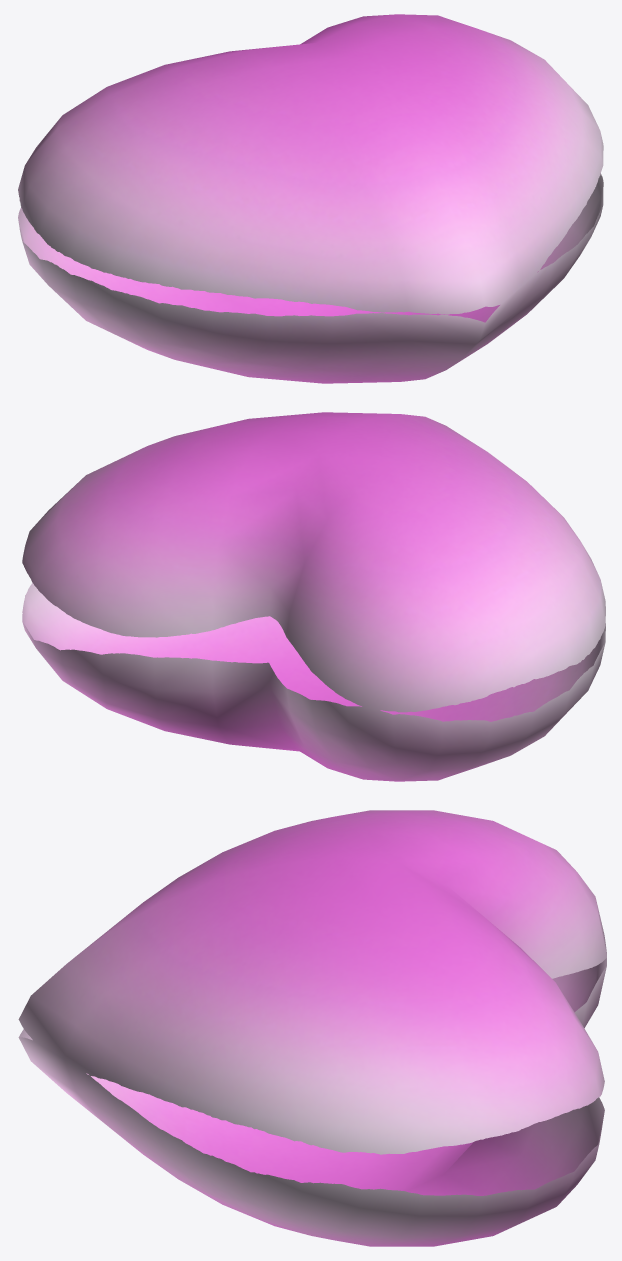
Rendered from mod_355_heart.FBX.
3 renders of one model, top to bottom at view 1: azimuth 30°, elevation 25°; view 2: azimuth 150°, elevation 25°; view 3: azimuth 270°, elevation 25°, orthographic. The views are drawn at different scales.
Visible parts, largest first — view 1: Box002; view 2: Box002; view 3: Box002.
Boxes of the visible parts, <box> form: Box002: <box>18,14,603,383</box>; Box002: <box>22,412,605,781</box>; Box002: <box>18,810,606,1246</box>.
Size of the model in its own units: 1372 by 747 by 1171.
